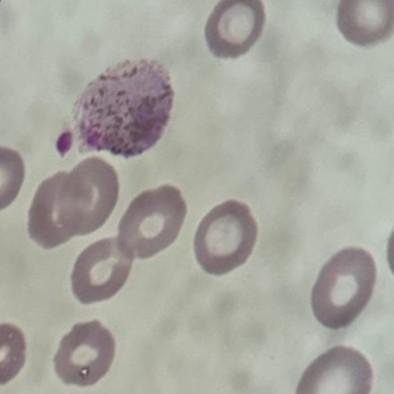Infected: (75, 58, 176, 157)
Uninfected: (311, 246, 378, 328), (193, 199, 258, 276), (119, 183, 183, 261), (57, 158, 118, 232), (27, 169, 82, 250), (73, 233, 134, 304), (53, 319, 115, 387), (203, 0, 266, 60), (296, 345, 373, 394), (337, 0, 394, 47)
